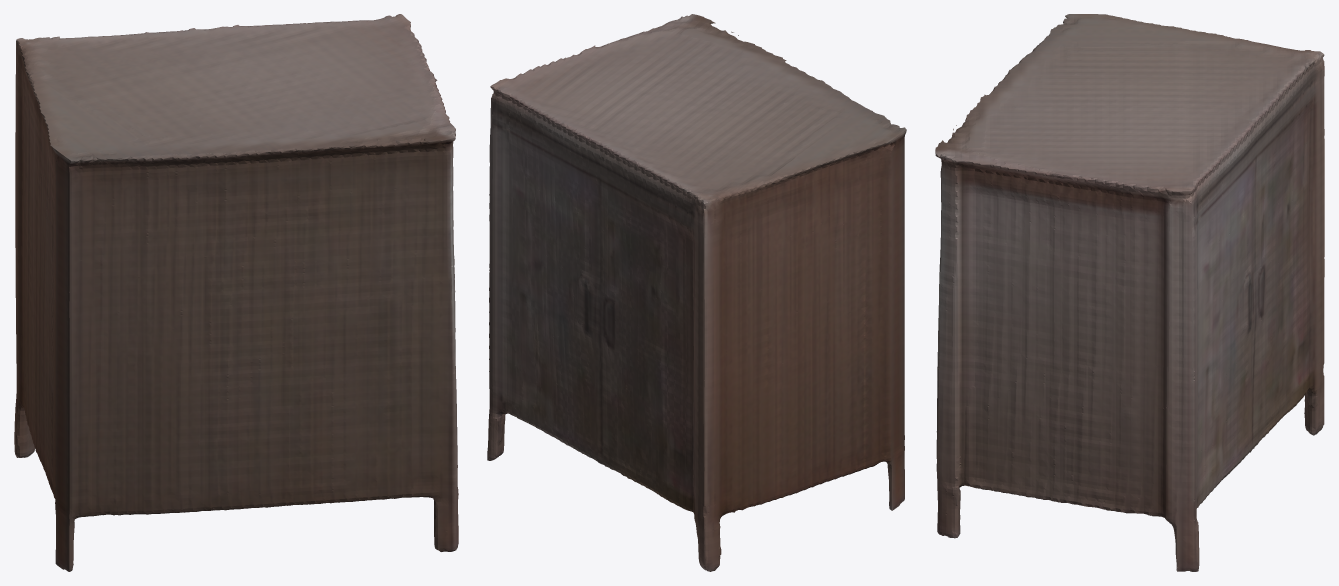
Rendered from wood_table.glb.
The picture shows the model from 3 angles, left to right: view 1: azimuth 30°, elevation 25°; view 2: azimuth 150°, elevation 25°; view 3: azimuth 270°, elevation 25°; orthographic projection. The views are drawn at different scales.
Visible parts, largest first — view 1: world; view 2: world; view 3: world.
Boxes of the visible parts, x1=… form: world: x1=14, y1=14, x2=458, y2=571; world: x1=487, y1=14, x2=906, y2=571; world: x1=935, y1=14, x2=1324, y2=571.
Bounding box in the file's own units: 1.98 × 1.97 × 1.83.
